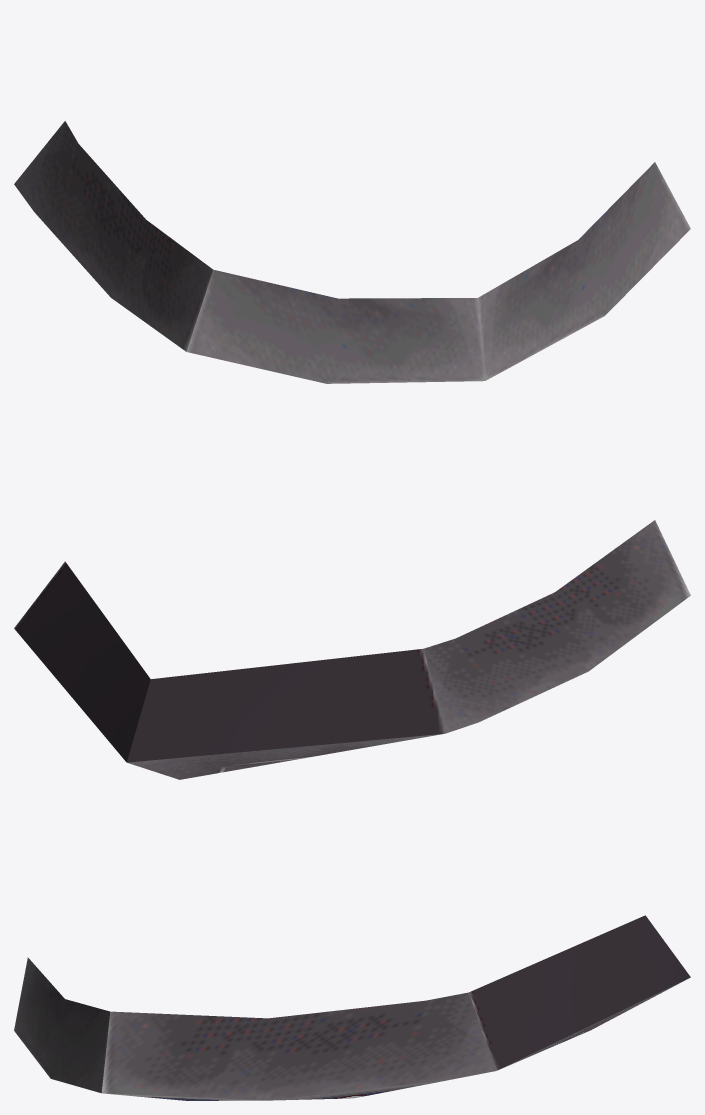
Rendered from crest_wall_spiralorder_01.glb.
3 views of the same model, one above another, from view 1: azimuth 30°, elevation 25°; view 2: azimuth 150°, elevation 25°; view 3: azimuth 270°, elevation 25° (orthographic). The views are drawn at different scales.
Parts seen in each view (by area): view 1: knights.crest_wall_spiralorder_01-Mesh[0]; view 2: knights.crest_wall_spiralorder_01-Mesh[0]; view 3: knights.crest_wall_spiralorder_01-Mesh[0].
Boxes of the visible parts, box(x1,y1,x2,y2) form: knights.crest_wall_spiralorder_01-Mesh[0]: box(14, 121, 690, 383); knights.crest_wall_spiralorder_01-Mesh[0]: box(14, 520, 690, 779); knights.crest_wall_spiralorder_01-Mesh[0]: box(14, 915, 690, 1100).
Size of the model in its own units: 1.2 by 0.3824 by 1.48.
Materials: 1 (1 with a texture image).
